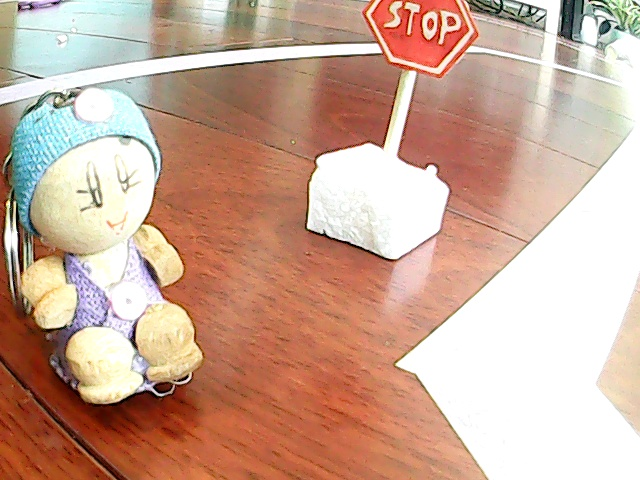pedestrain: (7, 88, 212, 379)
stop: (343, 1, 474, 255)
